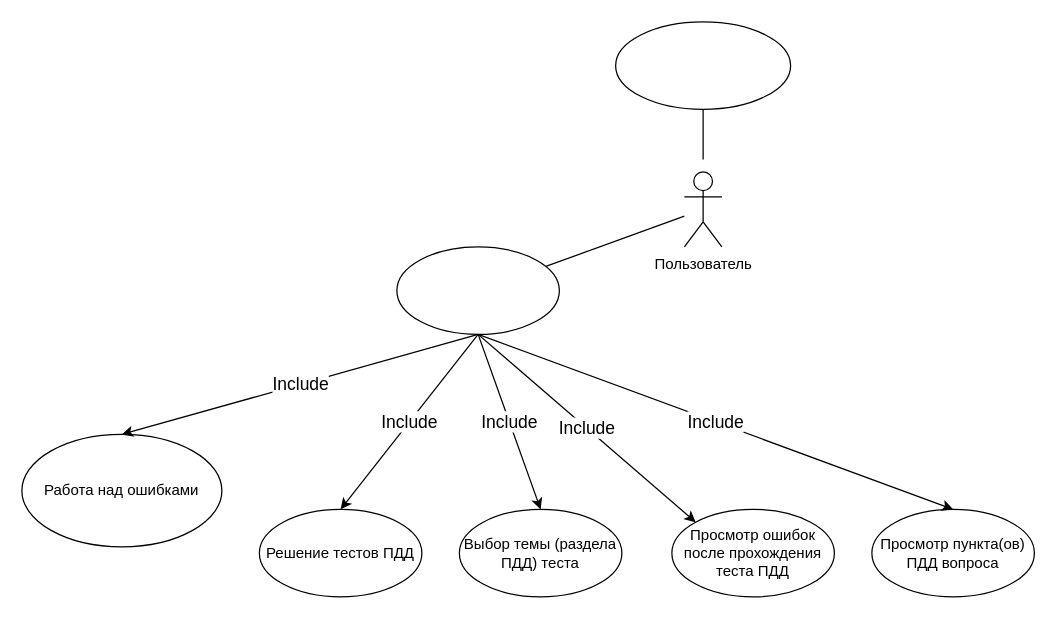
The diagram is 1056 pixels wide and 619 high, and some of its shapes have lost their labels. Here are the shapes that lost their labels. From the top down, the box of each, then its label:
(614, 21, 791, 109): Активация програмного средства
(396, 246, 559, 334): Прохождение тестов ПДД
